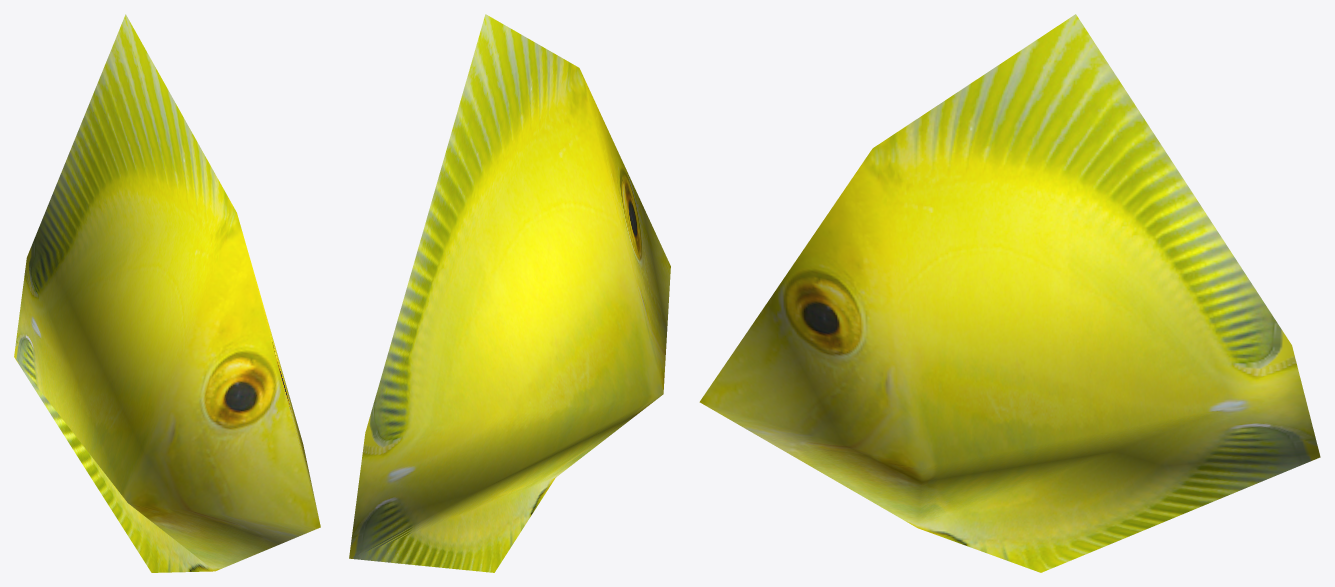
File: TropicalFish05.fbx
3 renders of one model, left to right at view 1: azimuth 30°, elevation 25°; view 2: azimuth 150°, elevation 25°; view 3: azimuth 270°, elevation 25°, orthographic. The views are drawn at different scales.
Visible parts, largest first — view 1: TropicalFish05_Export; view 2: TropicalFish05_Export; view 3: TropicalFish05_Export.
Part boxes in pixels (x1=…): TropicalFish05_Export: x1=14, y1=14, x2=320, y2=572; TropicalFish05_Export: x1=349, y1=14, x2=670, y2=572; TropicalFish05_Export: x1=699, y1=14, x2=1320, y2=572.
Size of the model in its own units: 0.0815 by 0.2301 by 0.2335.
